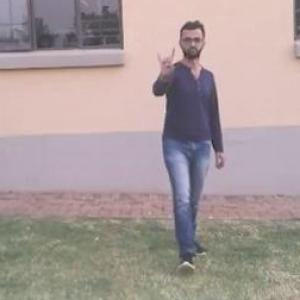takeoff-hand: (152, 43, 183, 82)
